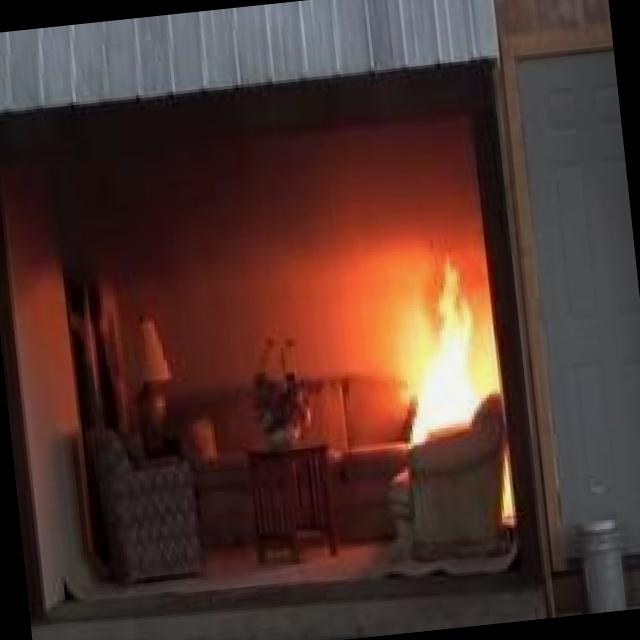fire: (356, 250, 511, 447)
